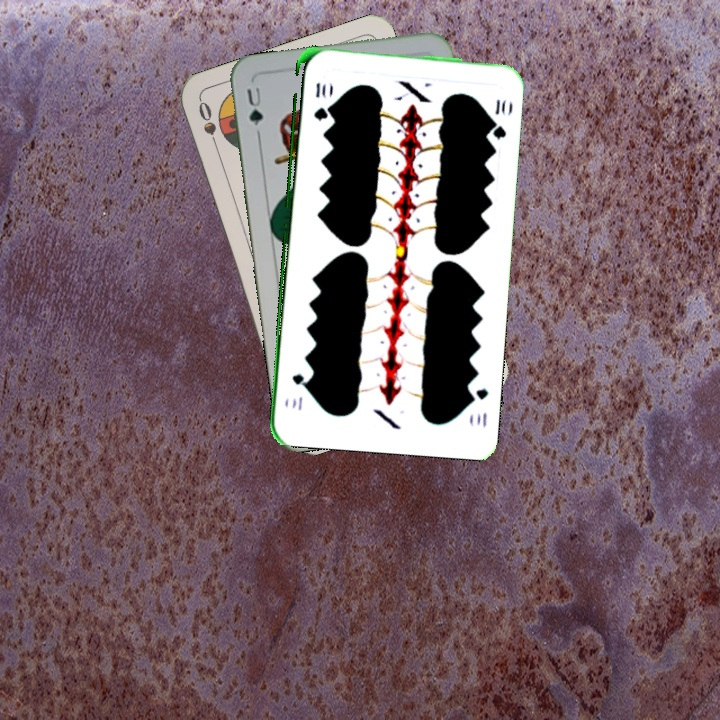G10: (465, 384, 491, 430), (310, 78, 329, 123)
GU: (242, 83, 266, 129)
SO: (194, 97, 222, 155)
